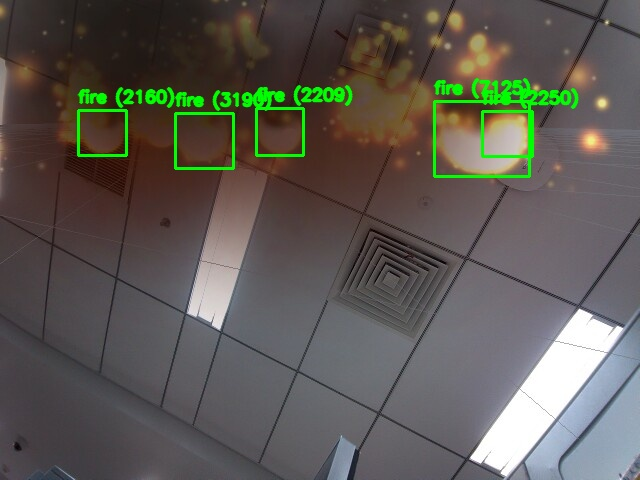fire: (434, 101, 529, 176), (175, 113, 233, 168), (482, 111, 532, 156), (256, 108, 303, 155), (78, 110, 126, 155)
